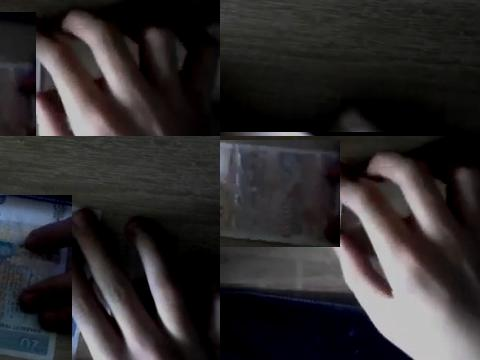20leva: (0, 195, 72, 360)
5leva: (220, 140, 340, 247)
